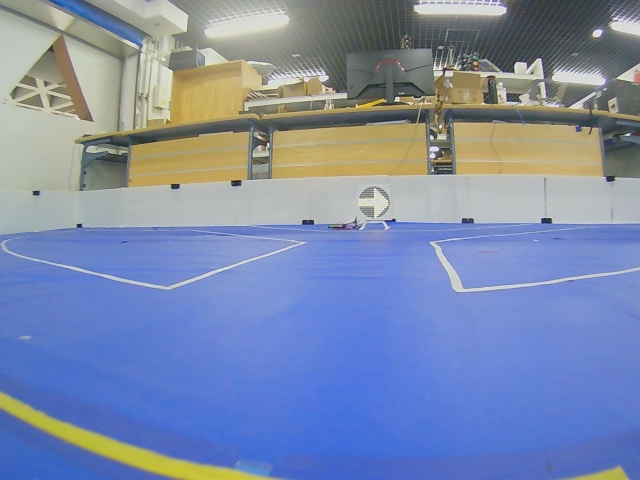right_yellow: (358, 186, 390, 219)
